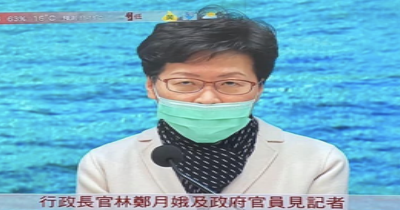mask_weared_incorrect: (155, 69, 259, 144)
